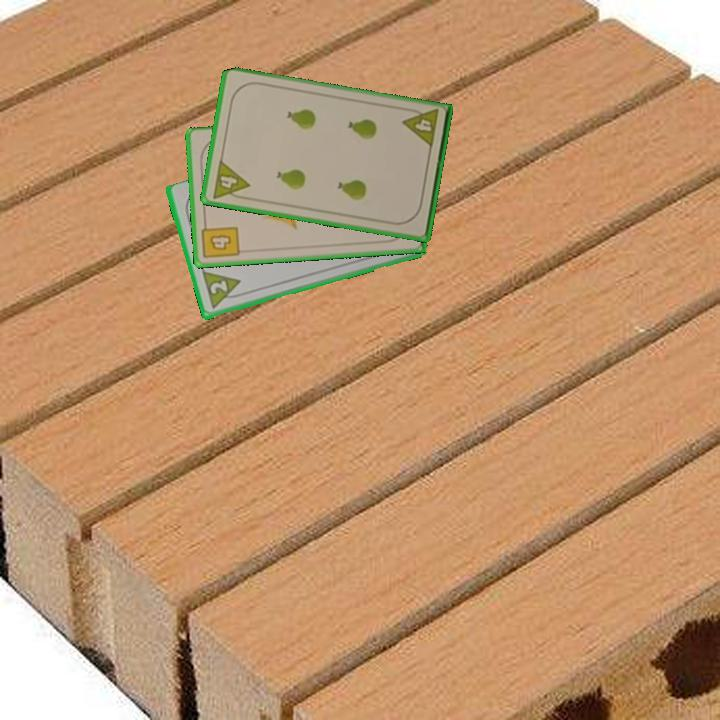2p: (206, 277, 230, 297)
4b: (199, 218, 242, 262)
4p: (209, 157, 252, 203), (399, 104, 441, 151)
